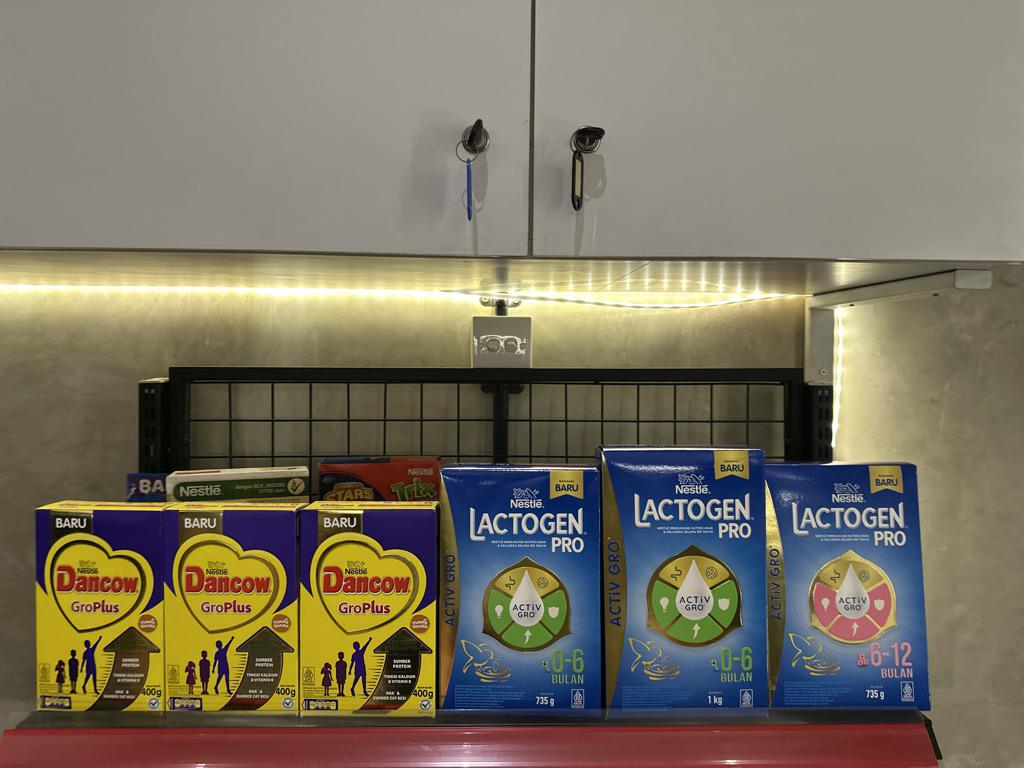LACTOGEN PRO 0-6 mo 12x735g ID: (598, 447, 768, 721), (437, 467, 602, 716)
LACTOGEN PRO 6-12 mo 12x735g ID: (759, 460, 931, 713)
